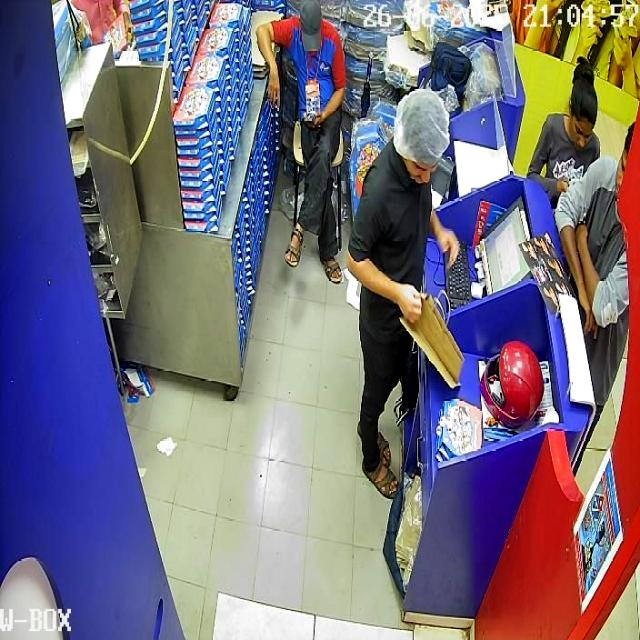helmet: (480, 338, 544, 429)
